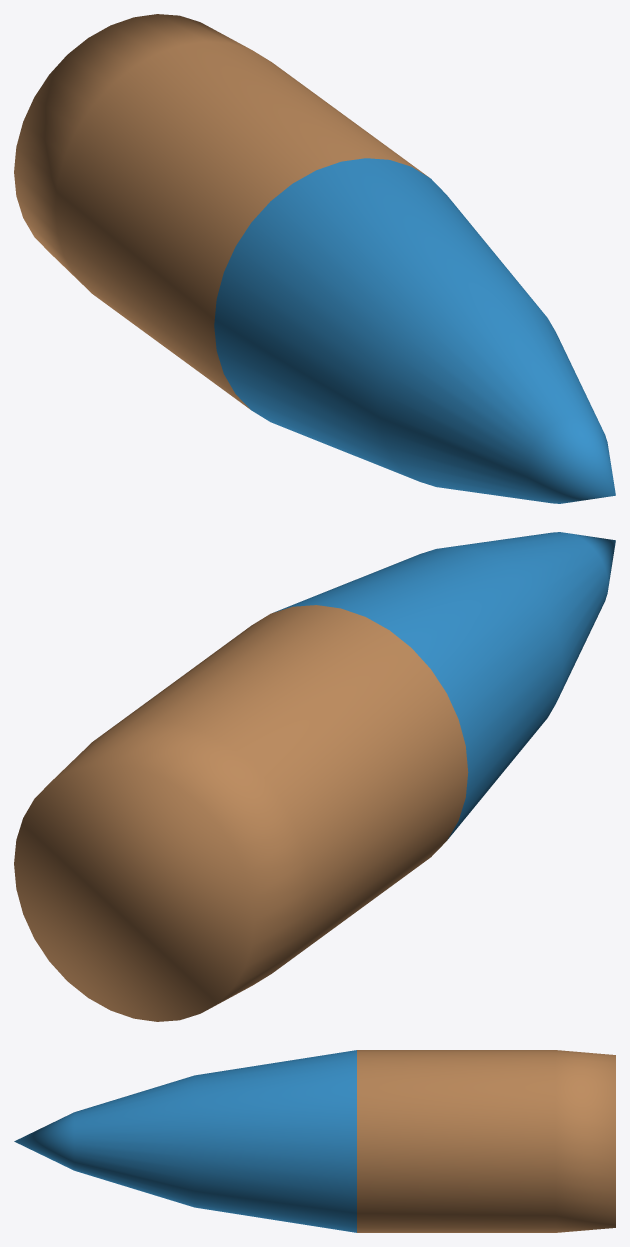
Rendered from rotor_heavy_projectile_display.glb.
The picture shows the model from 3 angles, top to bottom: view 1: azimuth 30°, elevation 25°; view 2: azimuth 150°, elevation 25°; view 3: azimuth 270°, elevation 25°; orthographic projection. The views are drawn at different scales.
Parts seen in each view (by area): view 1: AMMO_MESH.010; view 2: AMMO_MESH.010; view 3: AMMO_MESH.010.
Part boxes in pixels (x1,y1,x2,y2): AMMO_MESH.010: [14, 14, 615, 503]; AMMO_MESH.010: [14, 532, 615, 1021]; AMMO_MESH.010: [14, 1050, 615, 1232].
Size of the model in its own units: 0.00864 by 0.00864 by 0.0284.
